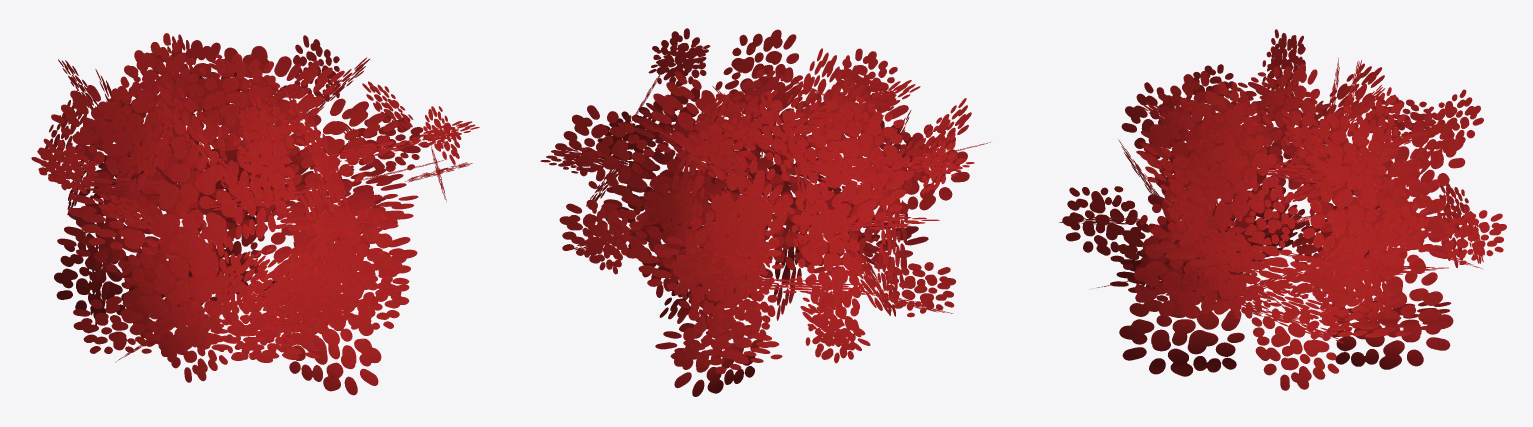
Rendered from shrub-natural.far.quaternius.glb.
The picture shows the model from 3 angles, left to right: view 1: azimuth 30°, elevation 25°; view 2: azimuth 150°, elevation 25°; view 3: azimuth 270°, elevation 25°; orthographic projection. The views are drawn at different scales.
Parts seen in each view (by area): view 1: Bush_Common; view 2: Bush_Common; view 3: Bush_Common.
Boxes of the visible parts, left/top/right/bottom form: Bush_Common: left=31, top=33, right=479, bottom=395; Bush_Common: left=540, top=28, right=990, bottom=396; Bush_Common: left=1059, top=29, right=1506, bottom=390.
Bounding box in the file's own units: 2.18 × 1.63 × 2.21.
Materials: 1 (1 with a texture image).
